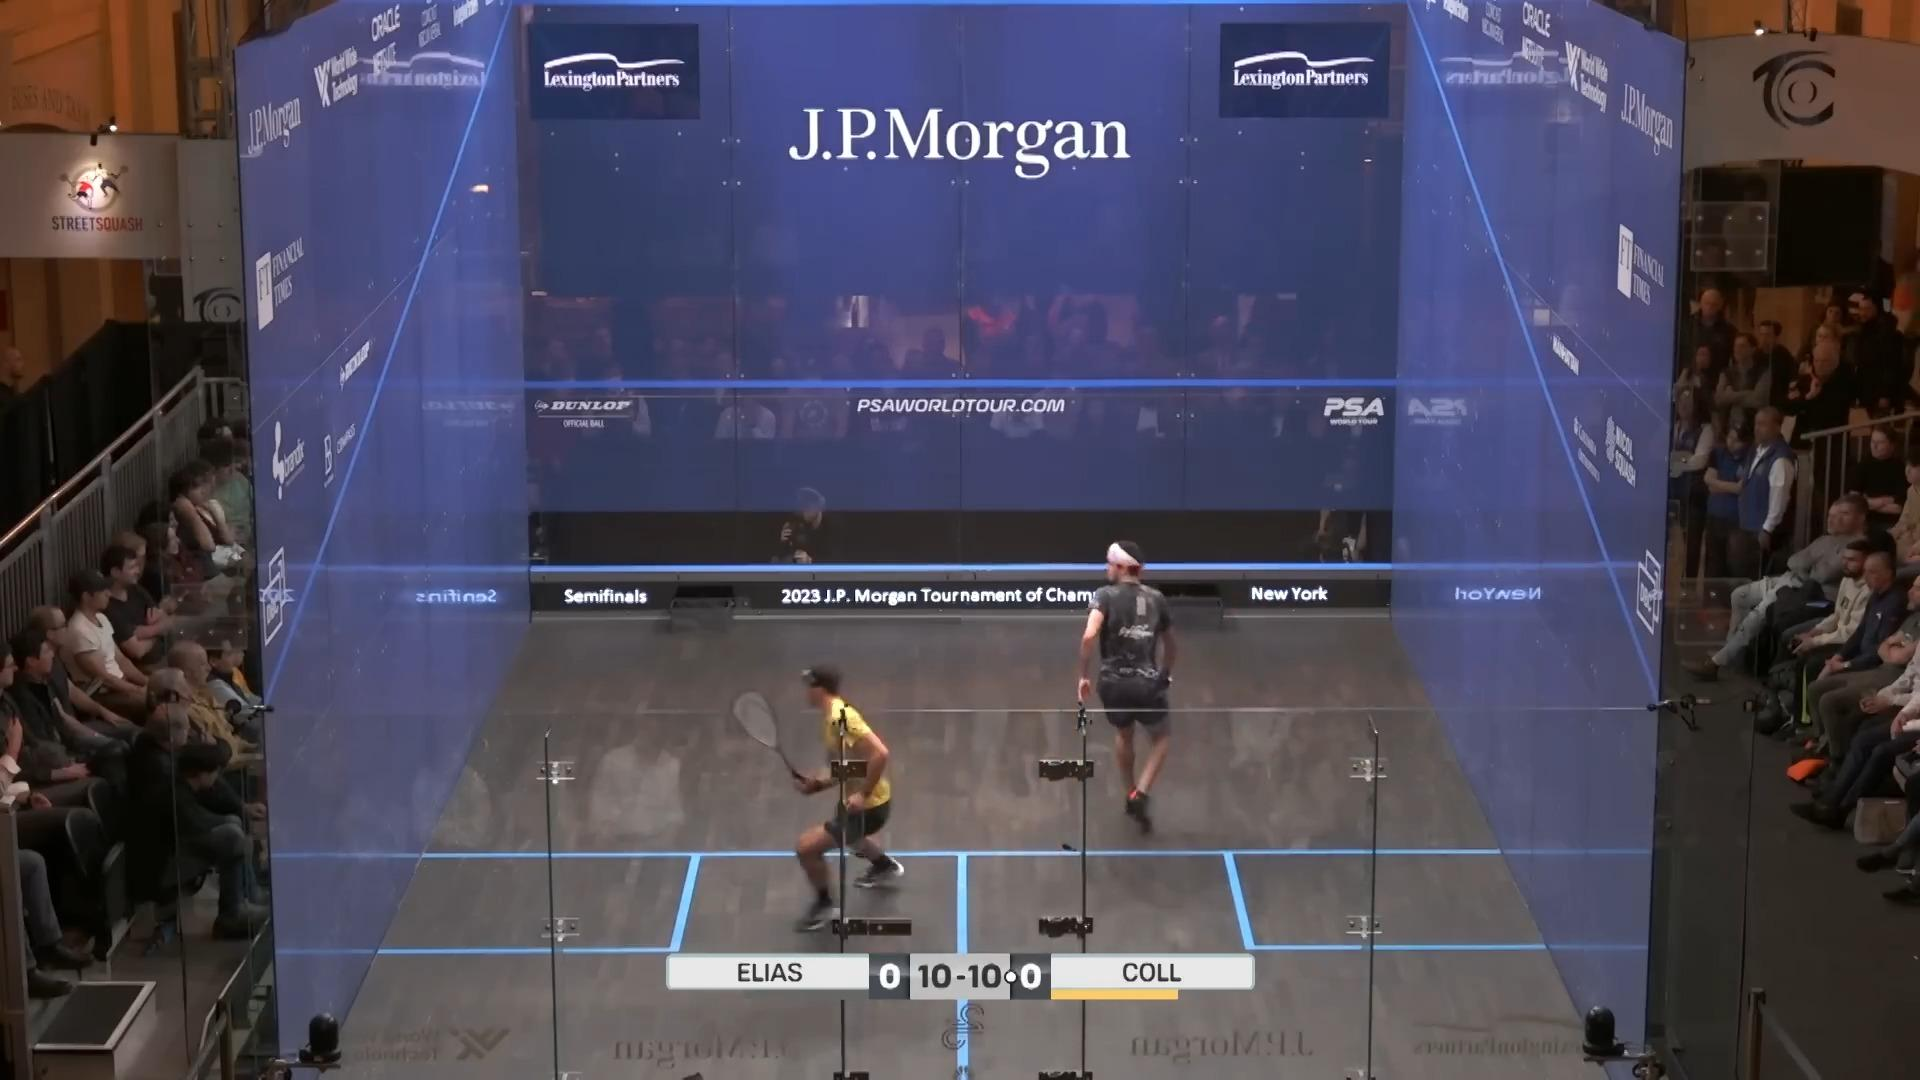Racket: (716, 684, 796, 783)
